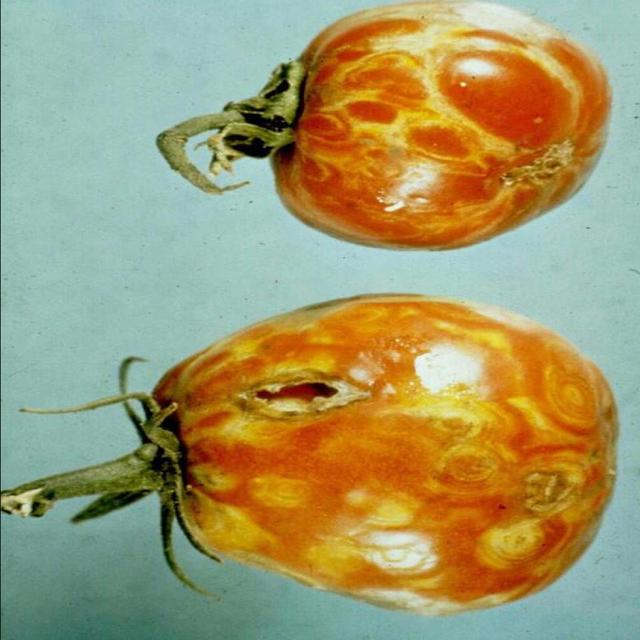Spotted wilt Virus Fruit: (297, 15, 399, 412)
